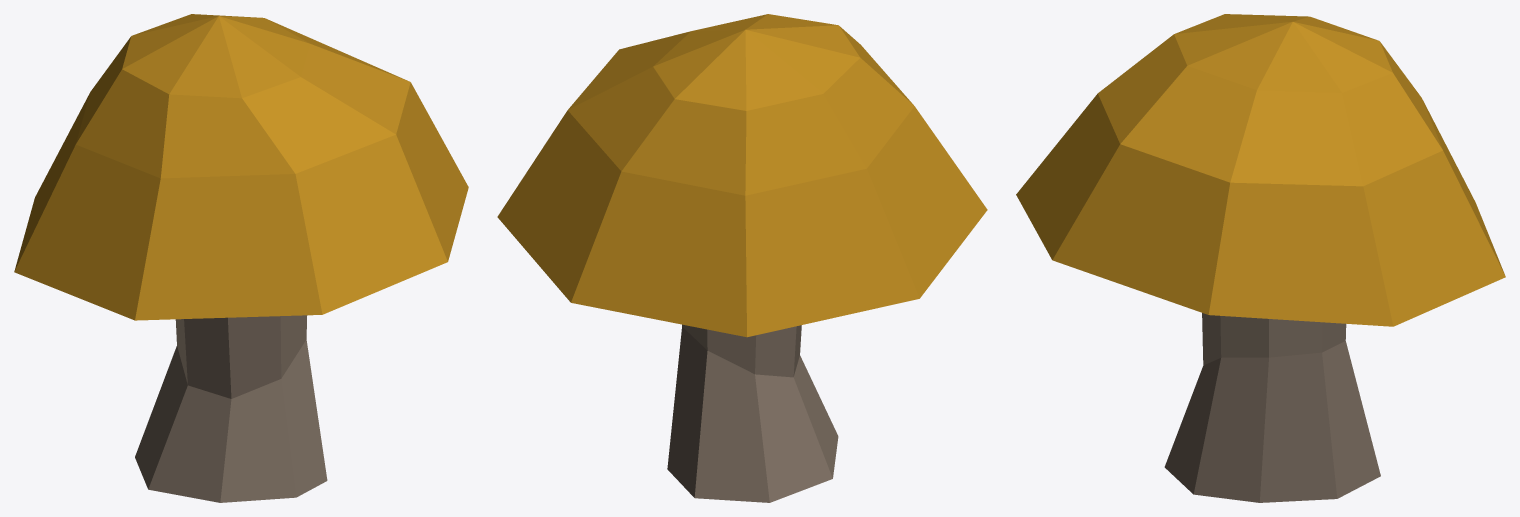
The model's file is Mushroom.fbx.
3 renders of one model, left to right at view 1: azimuth 30°, elevation 25°; view 2: azimuth 150°, elevation 25°; view 3: azimuth 270°, elevation 25°, orthographic. The views are drawn at different scales.
Visible parts, largest first — view 1: Mushroom_02; view 2: Mushroom_02; view 3: Mushroom_02.
Boxes of the visible parts, left/top/right/bottom form: Mushroom_02: left=14, top=14, right=468, bottom=502; Mushroom_02: left=497, top=14, right=987, bottom=502; Mushroom_02: left=1016, top=14, right=1505, bottom=502.
Size of the model in its own units: 15.73 by 16.92 by 16.67.
